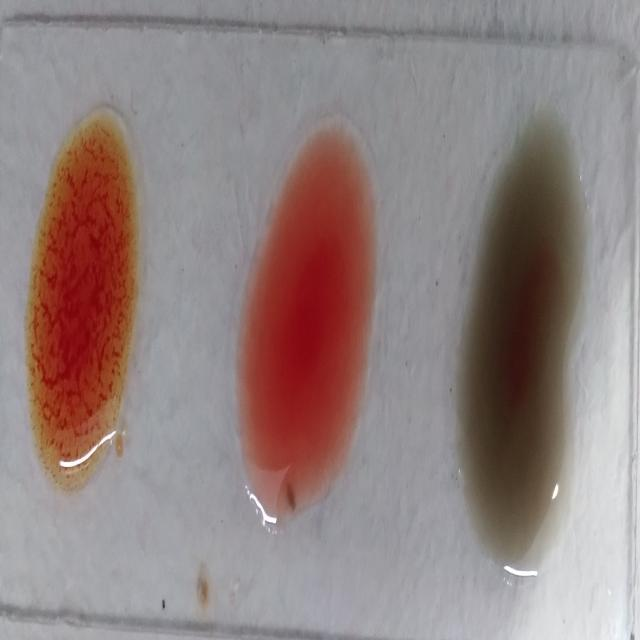B: (31, 103, 138, 490)
